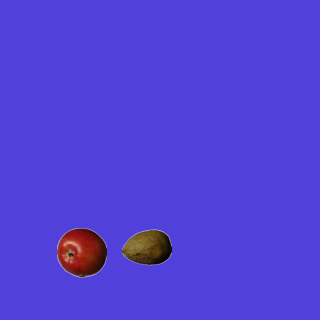Apple Braeburn: (56, 227, 106, 277)
Papaya: (121, 222, 171, 272)
